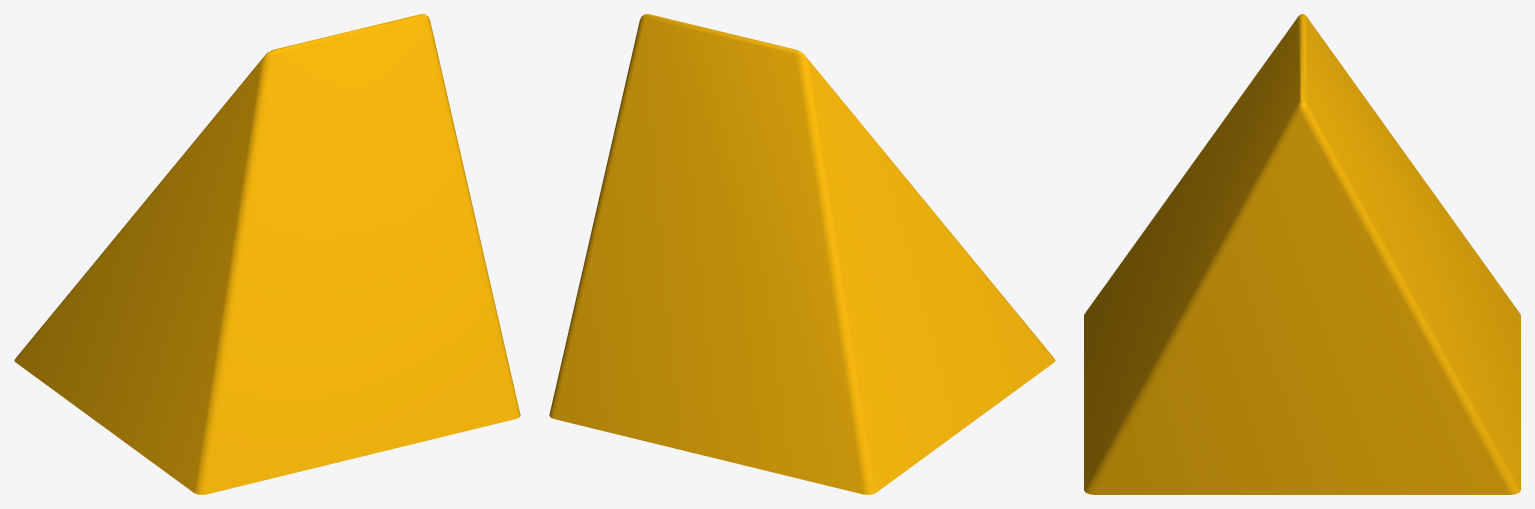
File: Slanted_Roof.fbx
3 renders of one model, left to right at view 1: azimuth 30°, elevation 25°; view 2: azimuth 150°, elevation 25°; view 3: azimuth 270°, elevation 25°, orthographic. The views are drawn at different scales.
Parts seen in each view (by area): view 1: Slanted_Roof; view 2: Slanted_Roof; view 3: Slanted_Roof.
Boxes of the visible parts, box(x1,y1,x2,y2) form: Slanted_Roof: box(14, 14, 520, 494); Slanted_Roof: box(549, 14, 1055, 494); Slanted_Roof: box(1084, 14, 1520, 494).
Bounding box in the file's own units: 1 × 0.987 × 1.
